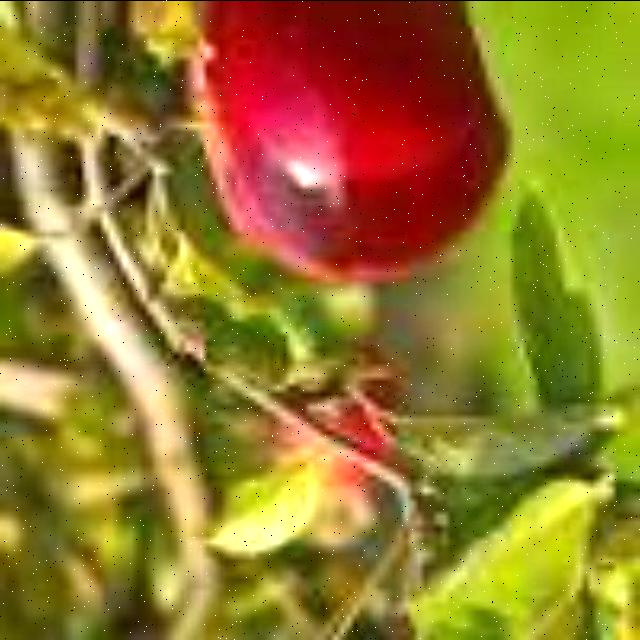HEALTHY: (191, 0, 518, 294)
